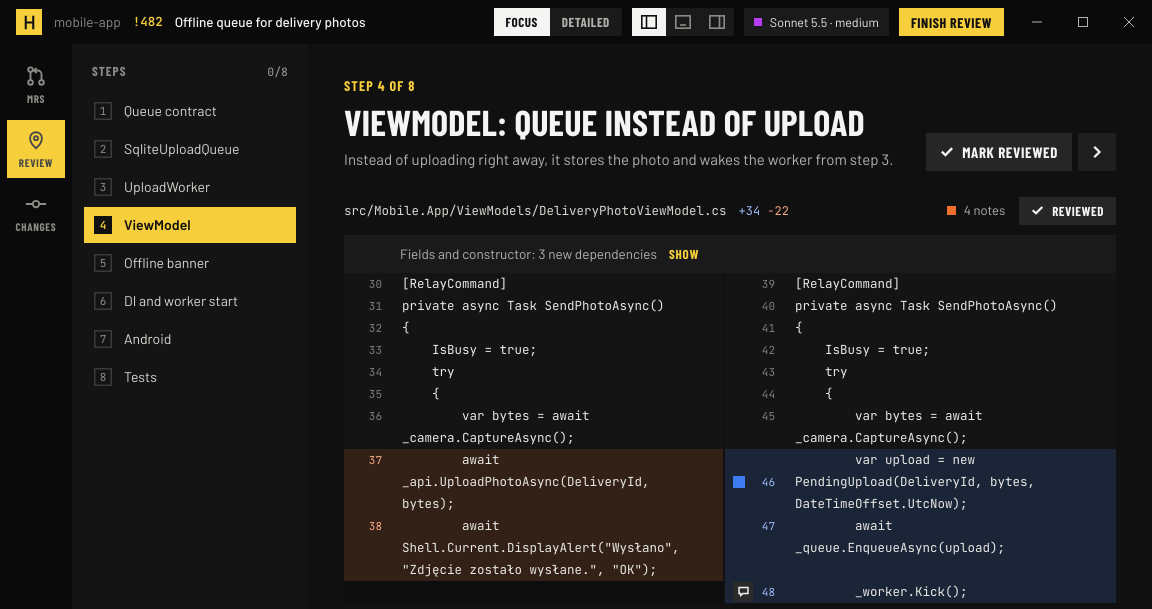
S-03 / S-04 mode toggle (F-08.1) › F-08.1 Focus | Detailed in the title bar opens Detailed on the same step and Focus again
Expected: the text "Step 4 of 8" is shown, 344,77 -> 416,94
Expected: the radio button labelled "Focus" is checked, 494,8 -> 550,36
Click the radio button labelled "Detailed". click: click(586, 22)
box: 550,8 -> 622,36
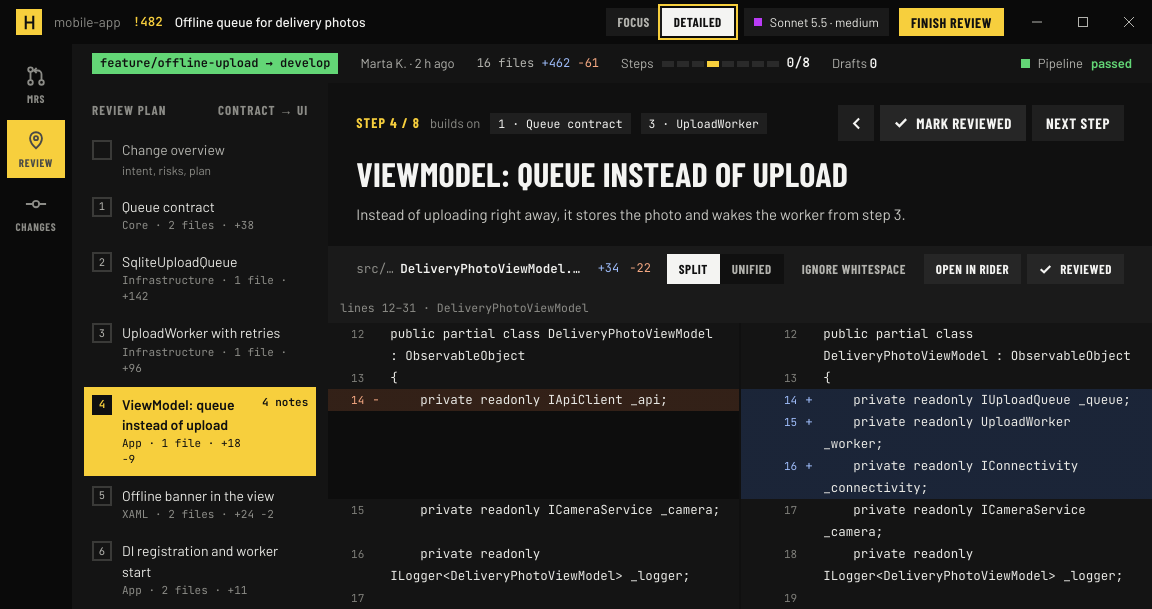
Result: the radio button labelled "Detailed" is checked at 662,8 -> 734,36
Result: the radio button labelled "Layout" is gone
Click the radio button labelled "Focus". click: click(634, 22)
box: 606,8 -> 662,36
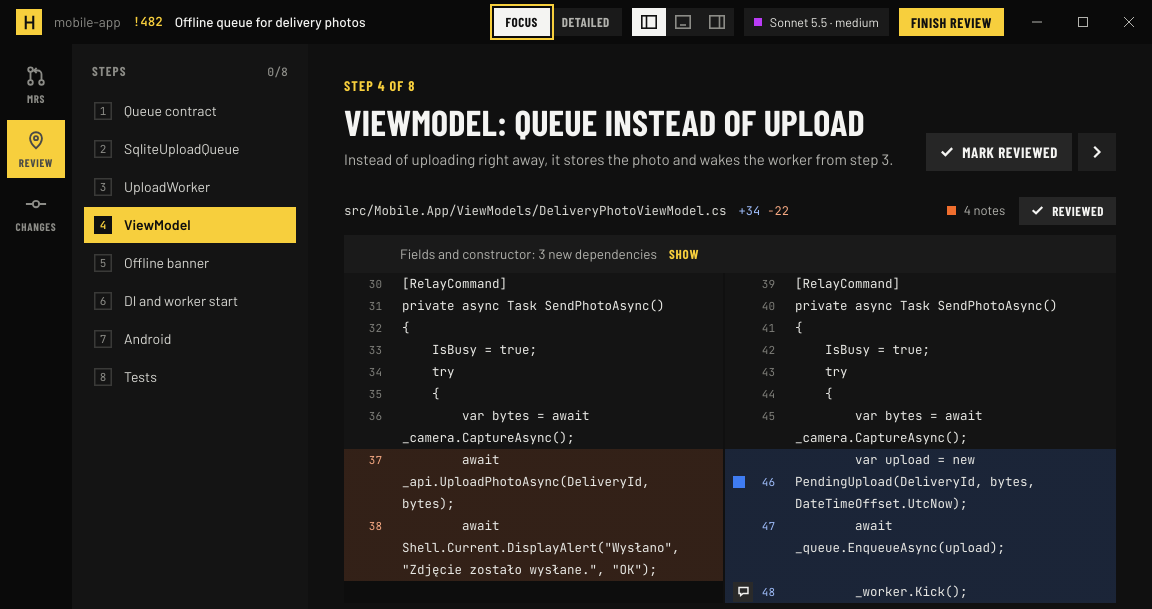
Result: the radio button labelled "Focus" is checked at 494,8 -> 550,36
Result: the text "Step 4 of 8" is shown at 344,77 -> 416,94
